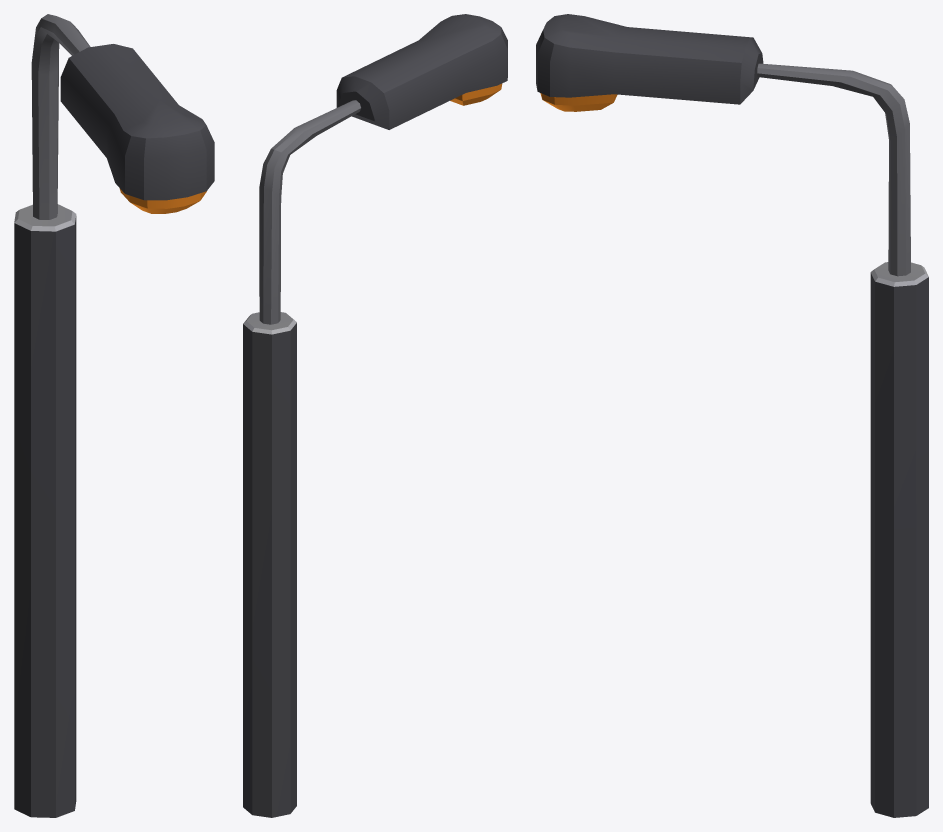
File: Lamp.fbx
The picture shows the model from 3 angles, left to right: view 1: azimuth 30°, elevation 25°; view 2: azimuth 150°, elevation 25°; view 3: azimuth 270°, elevation 25°; orthographic projection. The views are drawn at different scales.
Parts seen in each view (by area): view 1: Cylinder.012; view 2: Cylinder.012; view 3: Cylinder.012.
Boxes of the visible parts, x1,y1,x2,y2 form: Cylinder.012: (14,14,214,817); Cylinder.012: (243,14,507,817); Cylinder.012: (536,14,928,817).
Bounding box in the file's own units: 198 × 1192 × 562.
